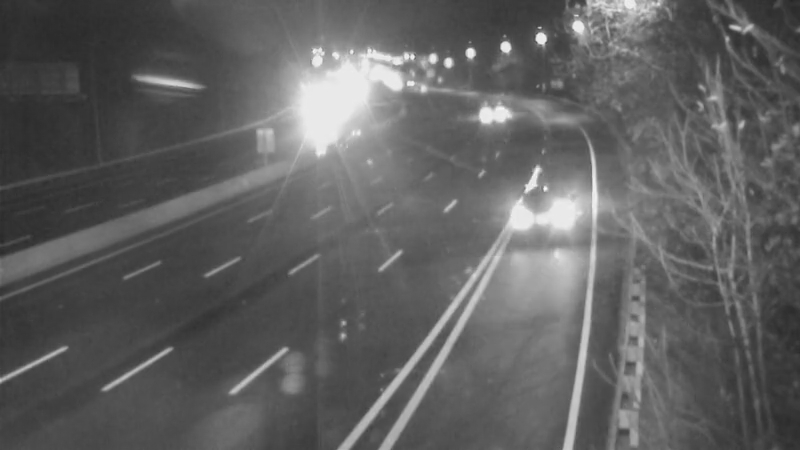vehicle: (501, 181, 581, 261), (392, 63, 442, 113), (455, 88, 505, 138)
